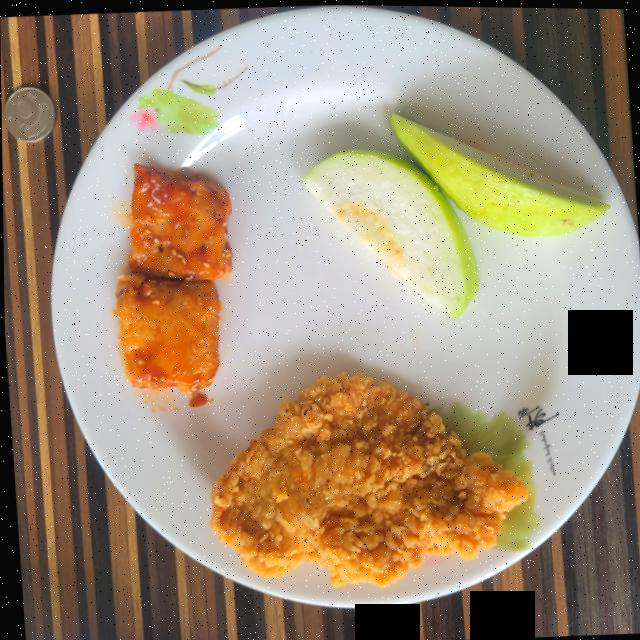coin: (3, 86, 55, 141)
creamy tofu: (115, 163, 231, 394)
fried chicken cutlet: (209, 371, 526, 585)
guava -sliced-: (303, 111, 609, 316)
